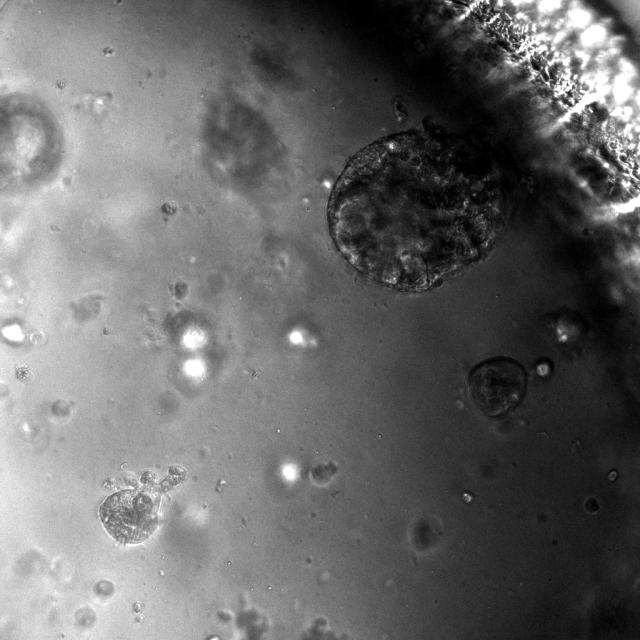organoid: (327, 120, 505, 292), (96, 463, 188, 546), (467, 356, 526, 416), (162, 201, 178, 216)
